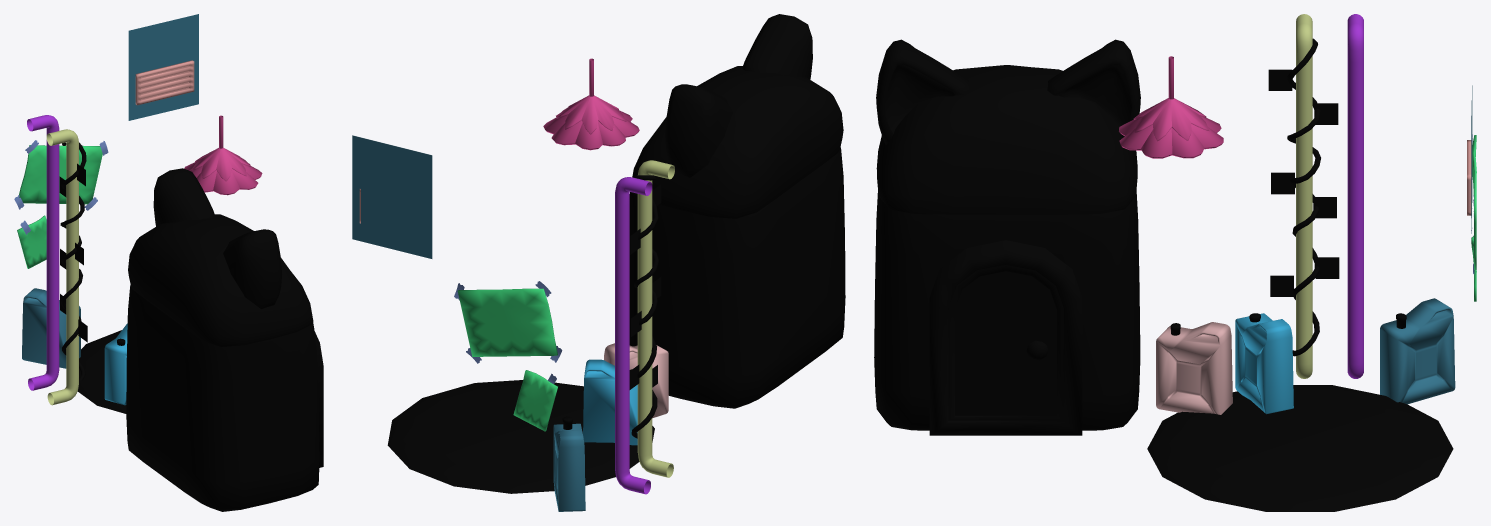
File: schowek2.fbx
3 views of the same model, side by side, from view 1: azimuth 30°, elevation 25°; view 2: azimuth 150°, elevation 25°; view 3: azimuth 270°, elevation 25° (orthographic). The views are drawn at different scales.
Parts seen in each view (by area): view 1: schowek.002; view 2: schowek.002; view 3: schowek.002.
Boxes of the visible parts, box(x1,y1,x2,y2) form: schowek.002: box(14, 14, 323, 511); schowek.002: box(352, 14, 845, 511); schowek.002: box(874, 14, 1476, 511).
Bounding box in the file's own units: 185 × 225 × 318.
